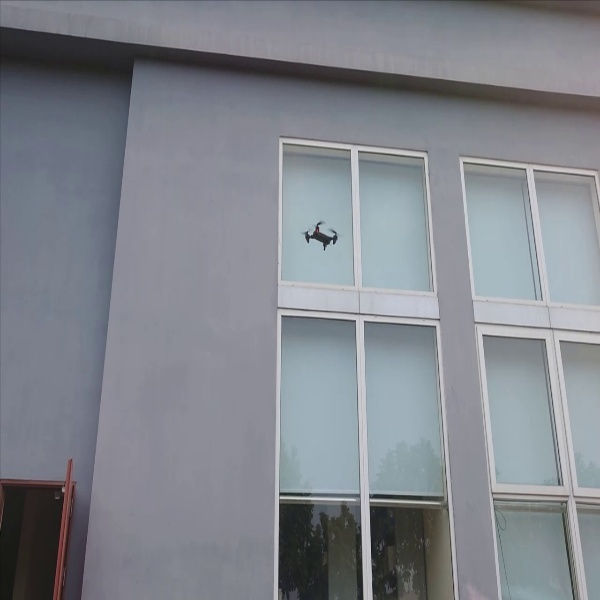drone: (295, 206, 347, 262)
